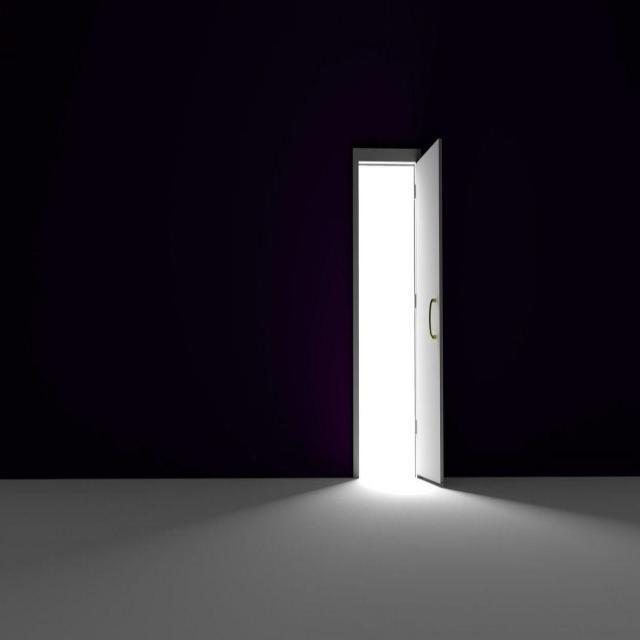door: (413, 137, 443, 484)
